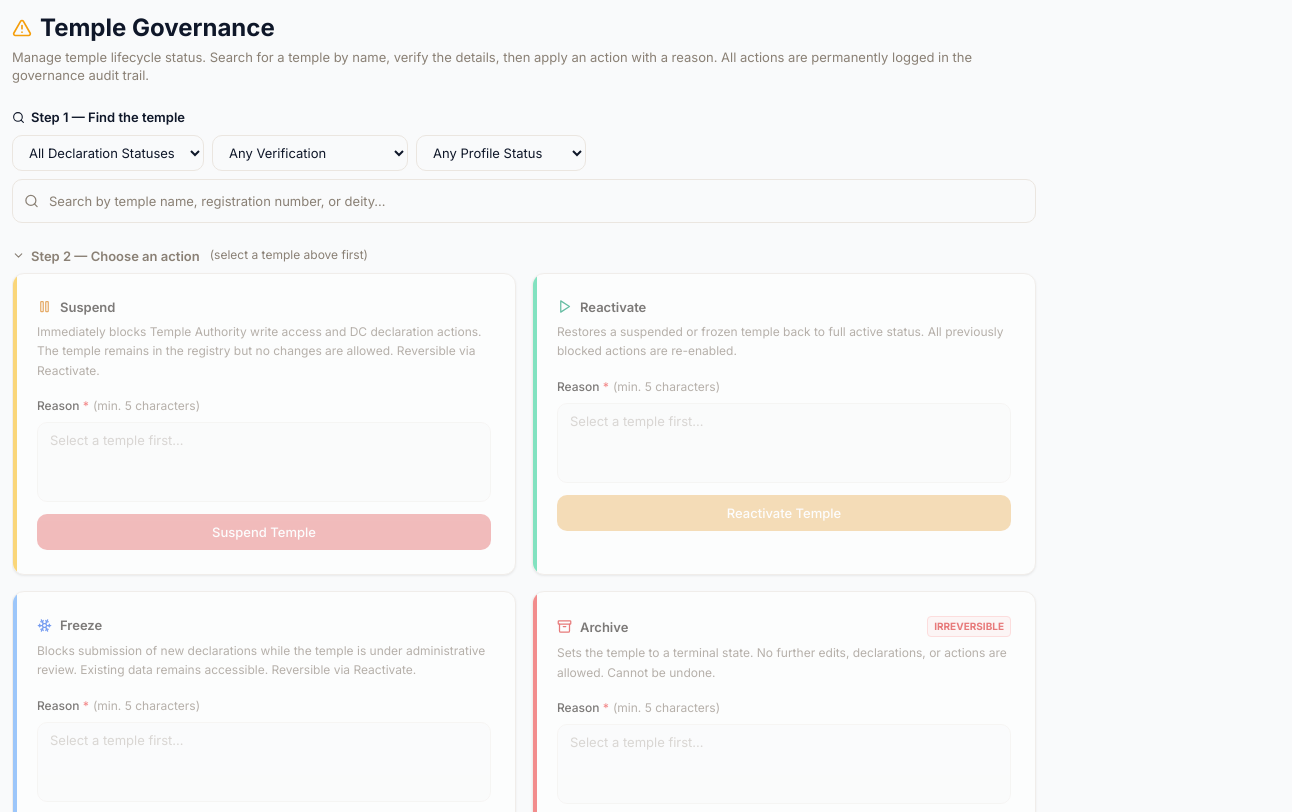
Test: TempleGovernancePage › should show search results when temples are found
This screenshot has width=1292, height=812.
Type "Rang" into the field with placeholder "Search by temple name, registration number, or deity…" at (524, 201), box [12,179,1036,223]
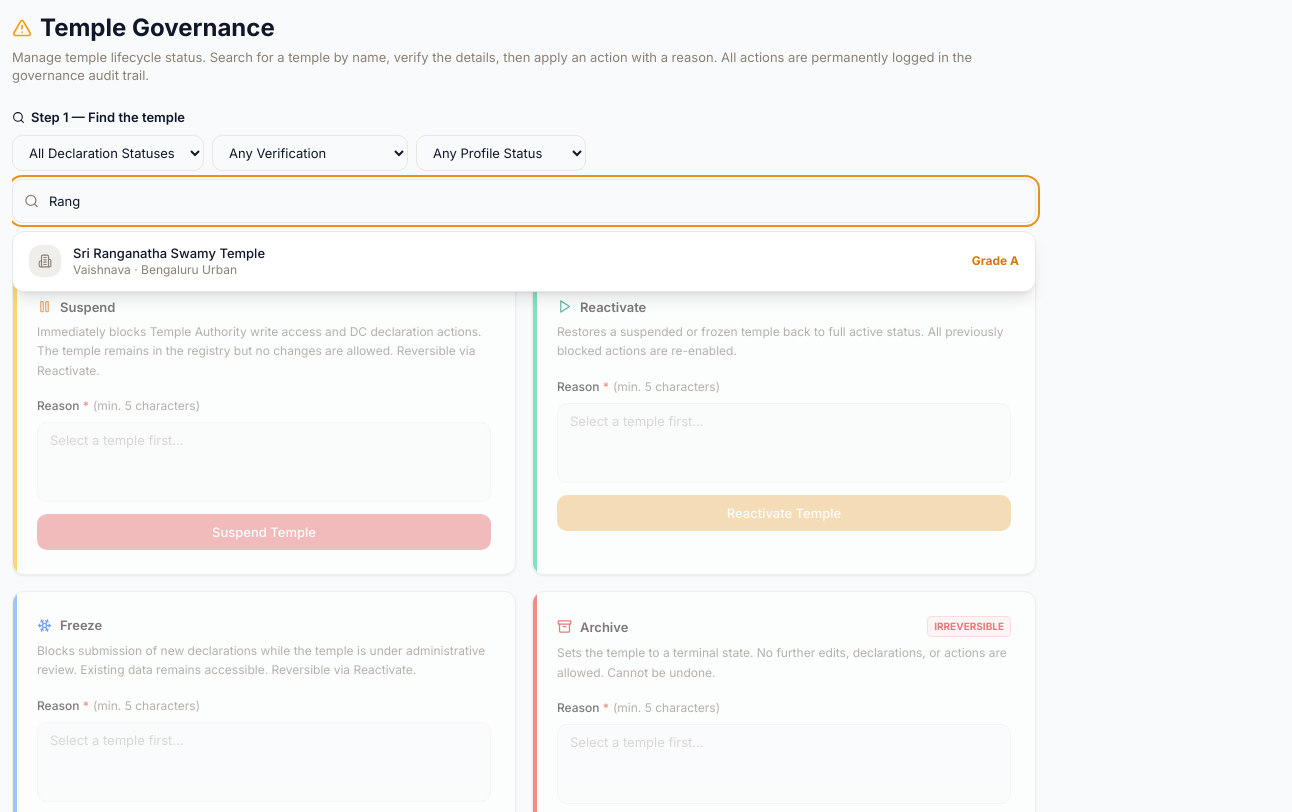
Expected: the text "Sri Ranganatha Swamy Temple" is shown, [73,245,265,261]
